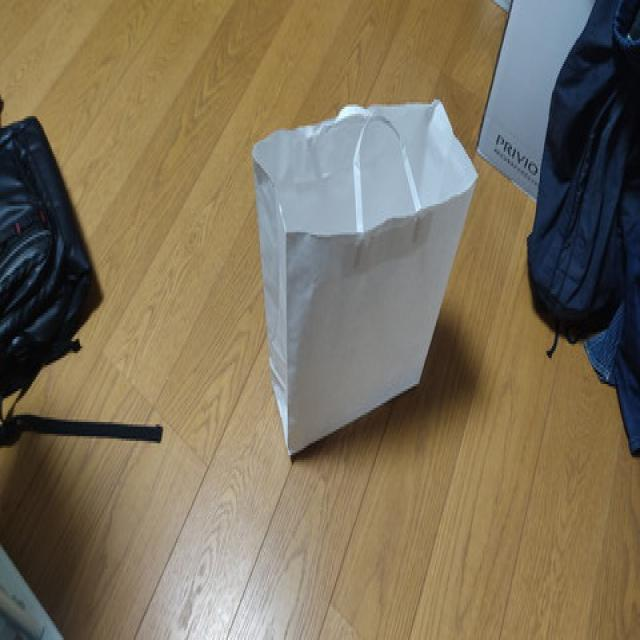paper bag: (249, 104, 477, 466)
